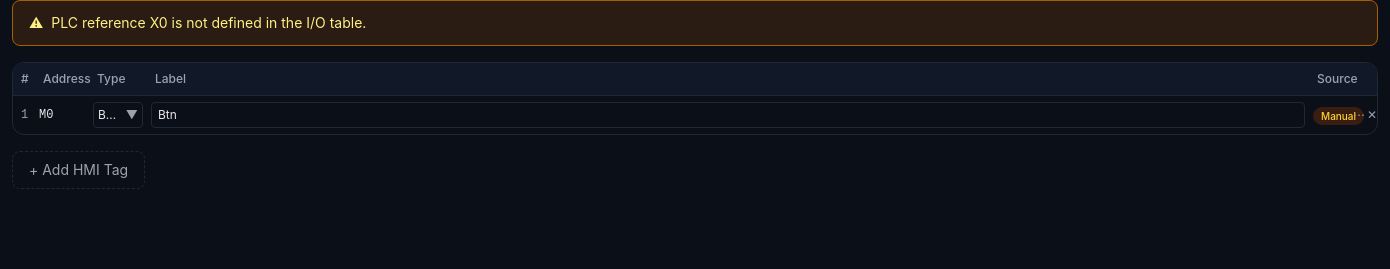
HMITagTable › expandable row (M12.1.3) › hides the inputs again on second click
Click the button with test id "hmi-more-0" at [1359, 115], box top-left (1353, 103), bottom-right (1365, 127)
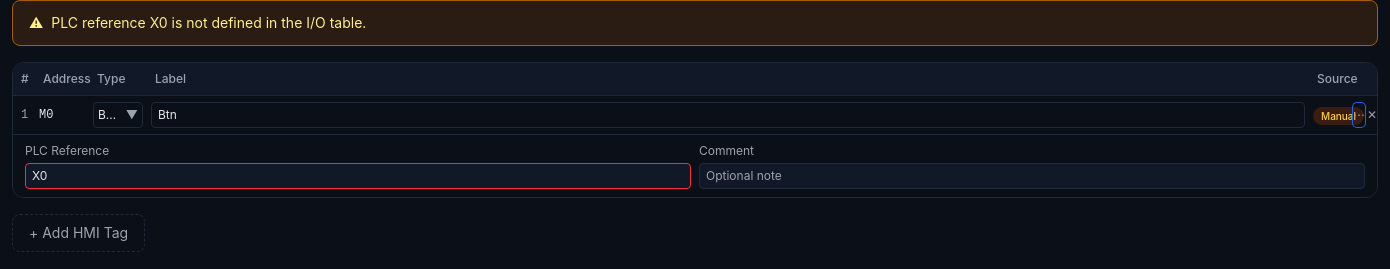
Click the button with test id "hmi-more-0" at [1359, 115], box top-left (1353, 103), bottom-right (1365, 127)
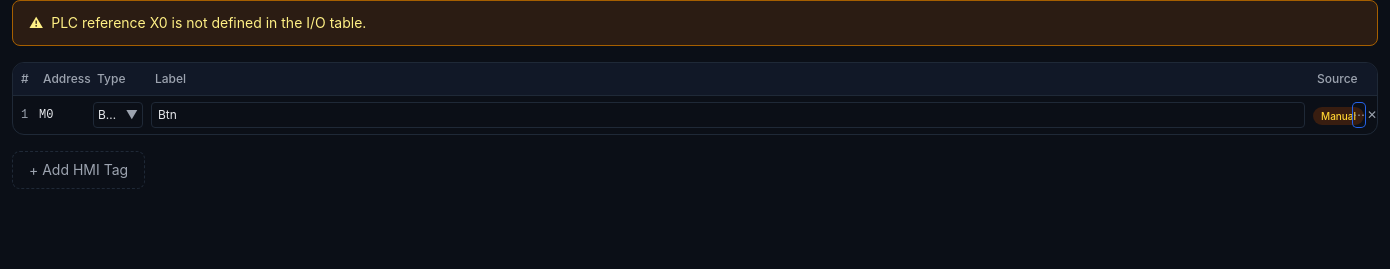
Now the row with test id "hmi-more-row-0" is gone
Now the field with test id "hmi-plcref-0" is gone
Now the field with test id "hmi-comment-0" is gone
